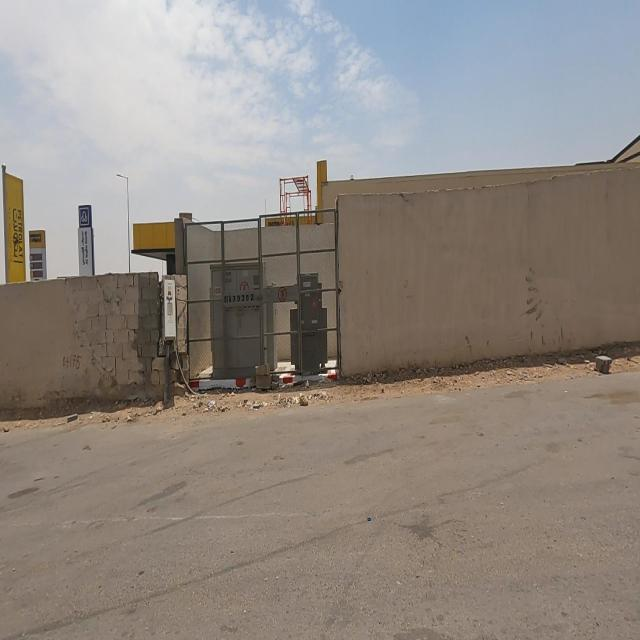Graffiti: (62, 355, 83, 372)
